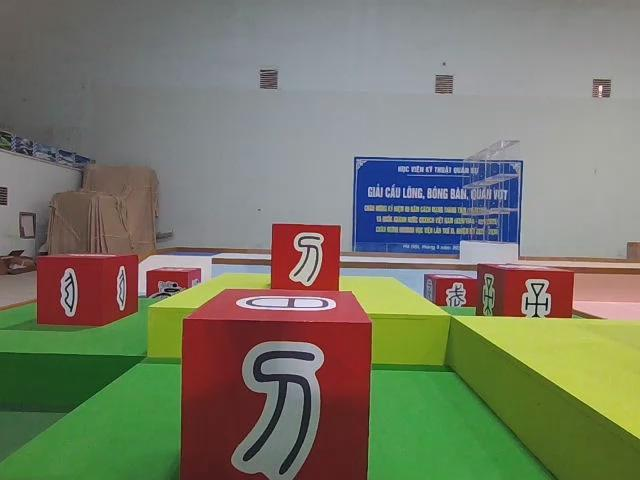R1: (145, 264, 203, 315)
R2 Fake: (171, 285, 370, 480), (269, 220, 345, 298), (421, 271, 477, 317)
R2 Real: (35, 249, 141, 334), (475, 258, 576, 337)
